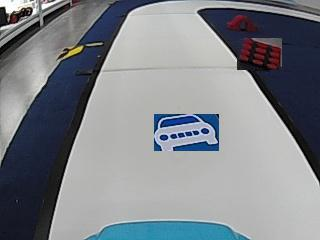bridge: (227, 14, 256, 31)
